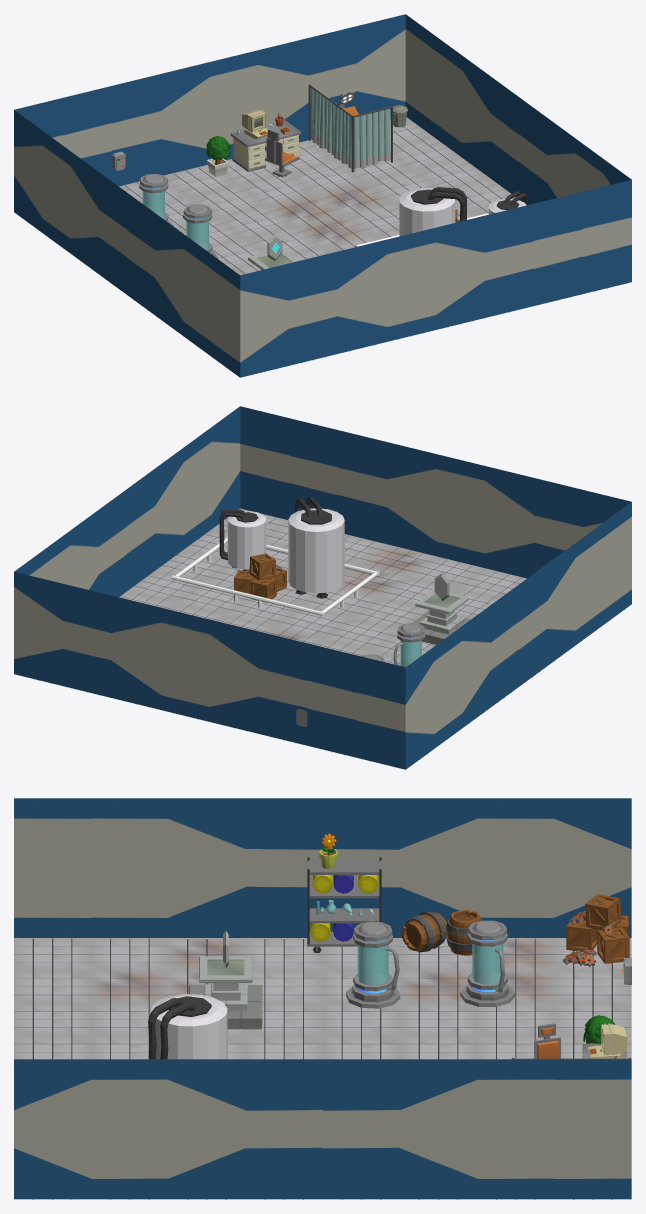
The model's file is Laboratorio.fbx_Laboratorio.fbx.
The picture shows the model from 3 angles, top to bottom: view 1: azimuth 30°, elevation 25°; view 2: azimuth 150°, elevation 25°; view 3: azimuth 270°, elevation 25°; orthographic projection. The views are drawn at different scales.
Parts seen in each view (by area): view 1: Paredes.001, Paredes.003, PisoLab, Paredes.004, Paredes.002, Cortinas, Tanques, MesaLab, CapsulasContecao.001, CapsulasContecao, CadeiraLab, ArbustoVasoLab (+1 smaller); view 2: Paredes.003, Paredes.001, Paredes.004, PisoLab, Paredes.002, Tanques, Contencao, PedestalLab, CaixotesEngrenagem.001, CapsulasContecao.001; view 3: Paredes.002, Paredes.004, PisoLab, EstanteCompleta, Tanques, PedestalLab, CapsulasContecao.001, CapsulasContecao, CaixotesEngrenagem, Barris, MesaLab, CadeiraLab.
Part boxes in pixels (x1,y1,x2,y2): Paredes.001: (240, 180, 631, 377); Paredes.003: (14, 14, 405, 186); PisoLab: (21, 117, 619, 375); Paredes.004: (14, 110, 240, 377); Paredes.002: (405, 14, 631, 205); Cortinas: (308, 84, 392, 172); Tanques: (399, 187, 527, 236); MesaLab: (230, 110, 301, 171); CapsulasContecao.001: (183, 204, 217, 258); CapsulasContecao: (139, 174, 173, 226); CadeiraLab: (265, 129, 298, 177); ArbustoVasoLab: (206, 136, 230, 176); Paredes.003: (14, 572, 405, 769); Paredes.001: (240, 406, 631, 578); Paredes.004: (405, 502, 631, 769); PisoLab: (26, 508, 624, 767); Paredes.002: (14, 406, 240, 597); Tanques: (219, 496, 344, 598); Contencao: (171, 535, 379, 616); PedestalLab: (412, 590, 470, 644); CaixotesEngrenagem.001: (234, 553, 286, 602); CapsulasContecao.001: (393, 623, 425, 667); Paredes.002: (14, 1059, 631, 1199); Paredes.004: (14, 798, 631, 938); PisoLab: (14, 938, 631, 1199); EstanteCompleta: (307, 833, 381, 952); Tanques: (148, 994, 227, 1059); PedestalLab: (189, 956, 262, 1029); CapsulasContecao.001: (346, 921, 400, 1008); CapsulasContecao: (460, 920, 514, 1007); CaixotesEngrenagem: (566, 894, 629, 963); Barris: (401, 910, 482, 955); MesaLab: (582, 1023, 626, 1058); CadeiraLab: (534, 1023, 560, 1058).
Bounding box in the file's own units: 1600 × 402 × 1601.
